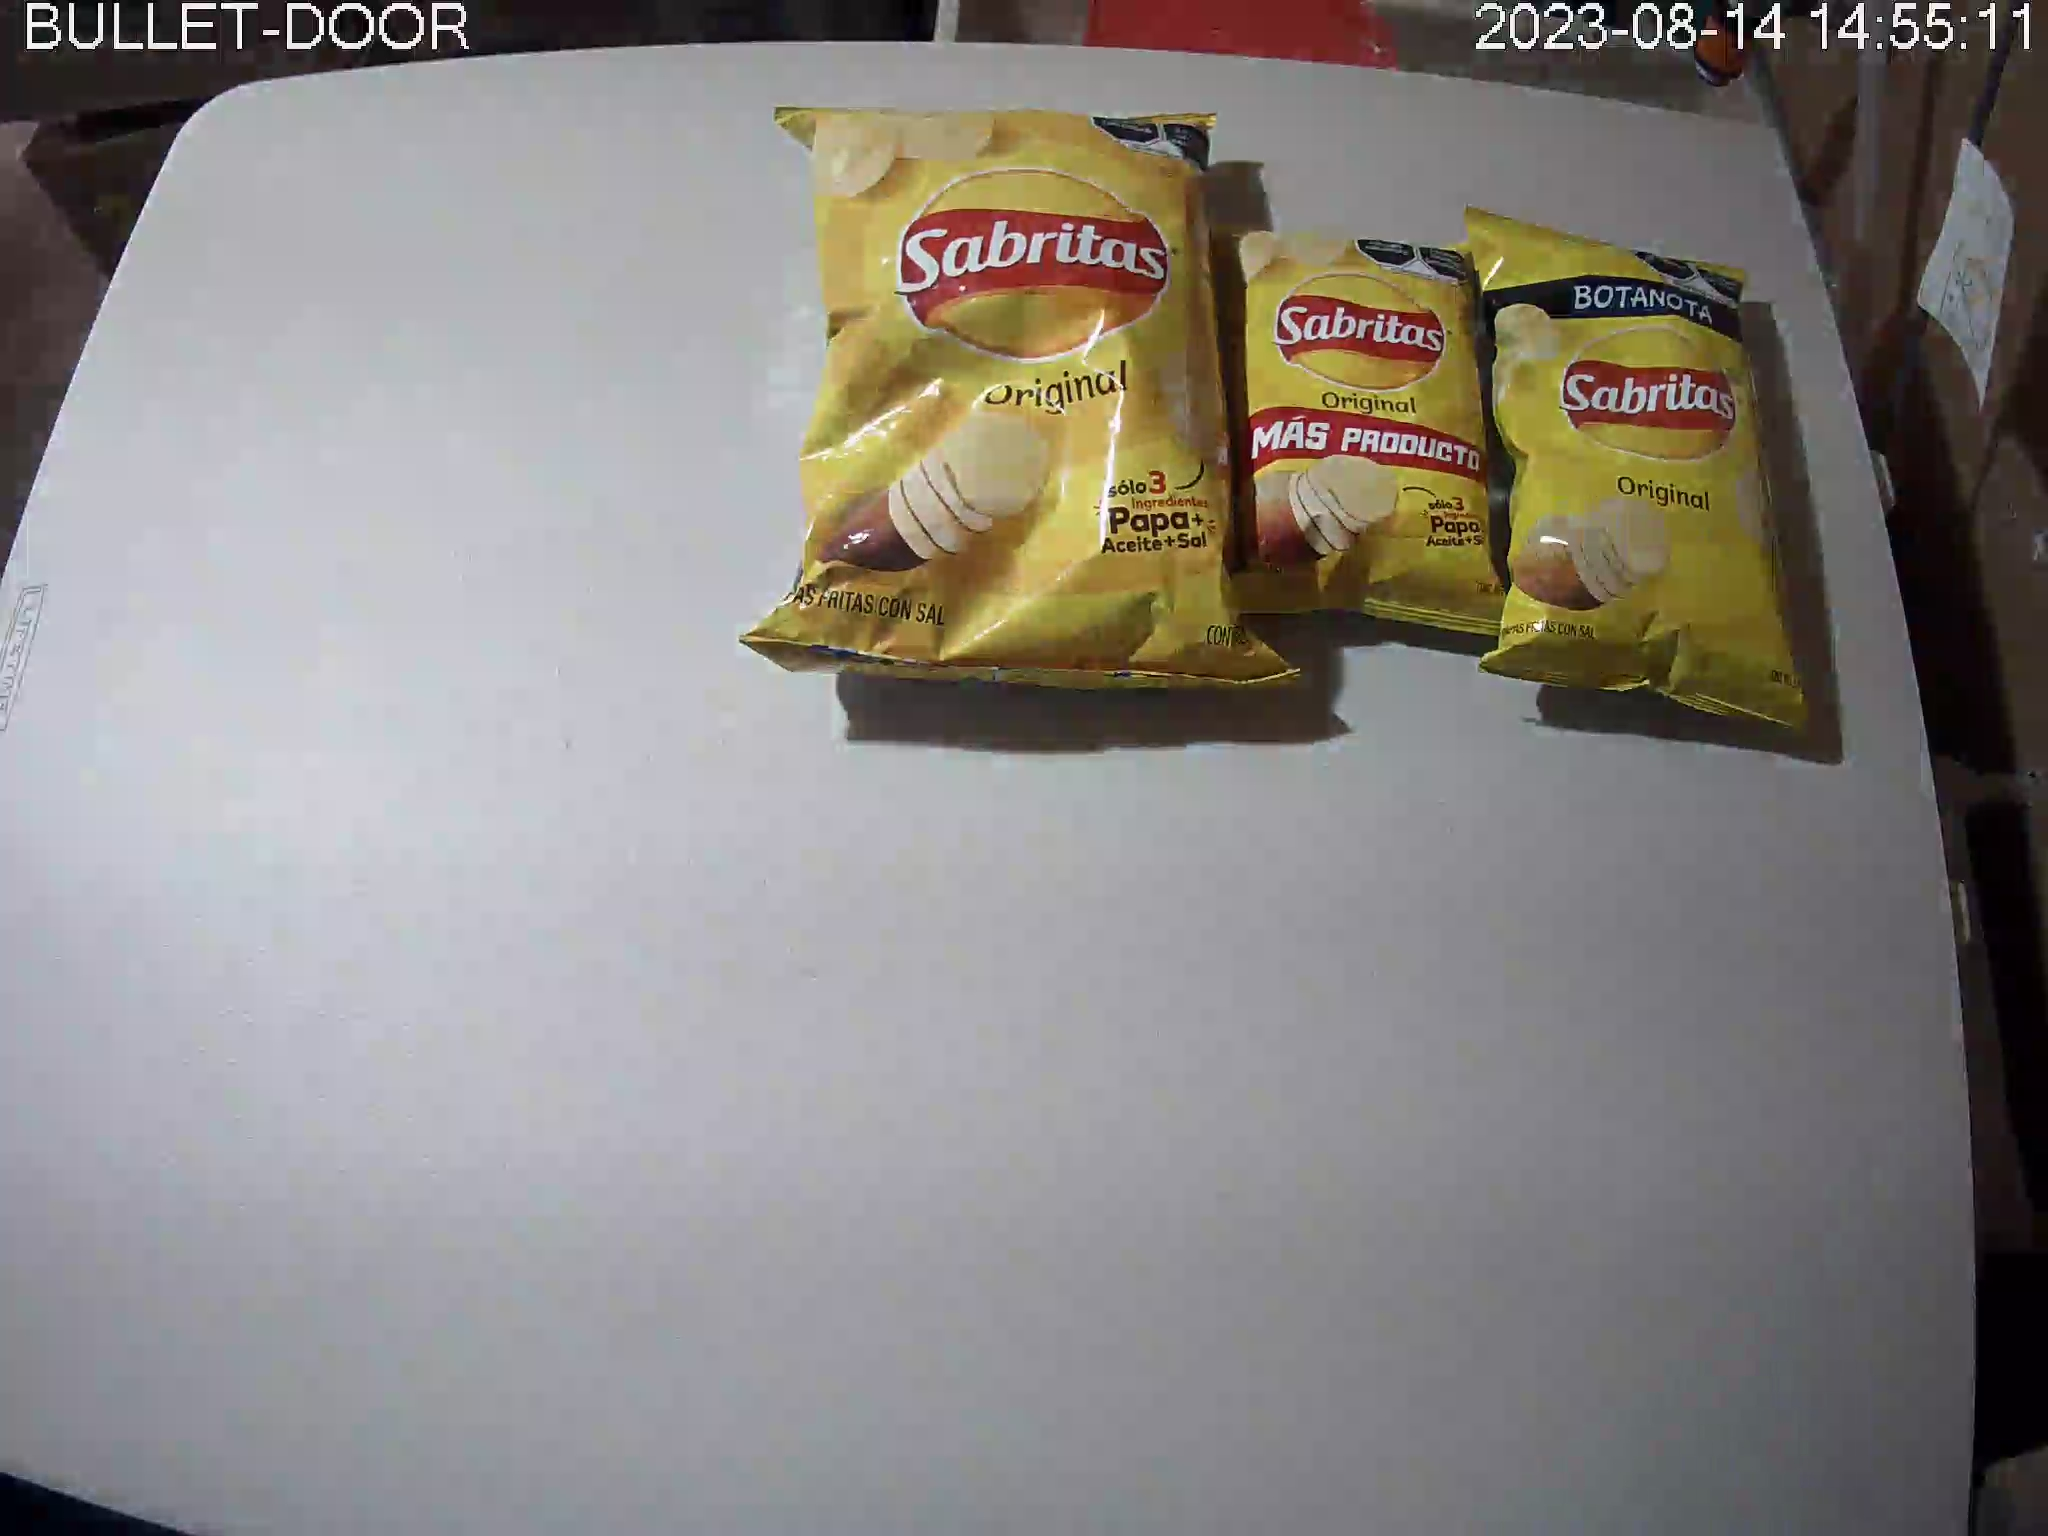Sabritas_160_F: (739, 103, 1306, 694)
Sabritas_45_F: (1201, 223, 1529, 637)
Sabritas_64_F: (1463, 203, 1816, 747)
